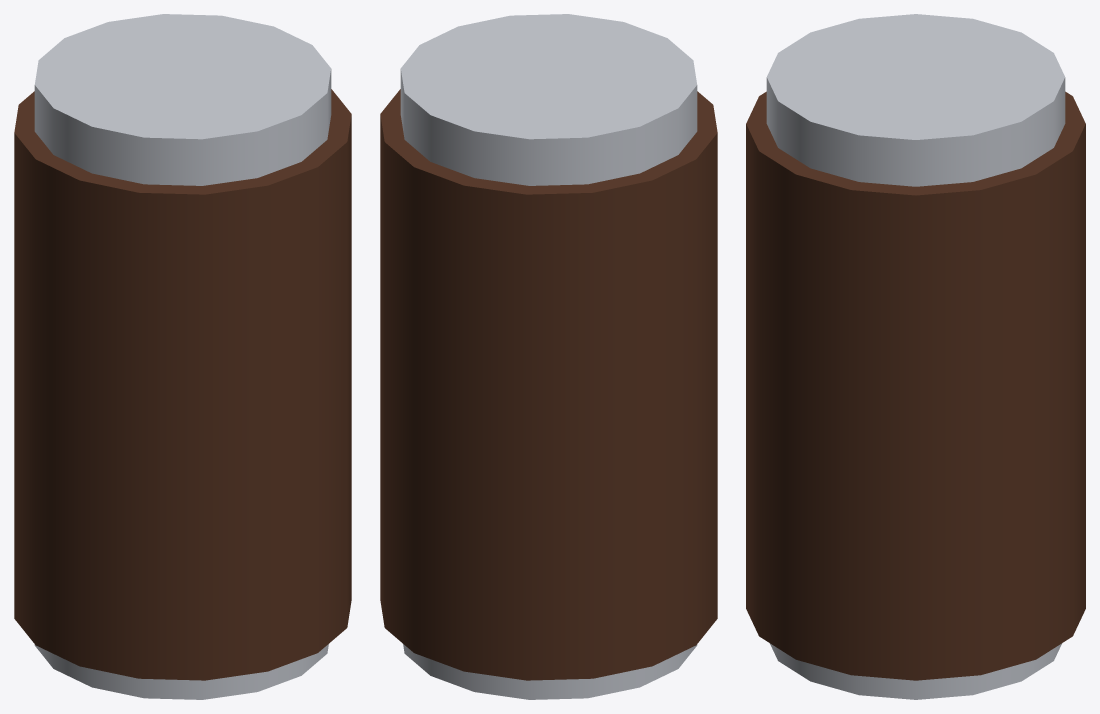
The model's file is goods_can__can_01.glb.
3 views of the same model, side by side, from view 1: azimuth 30°, elevation 25°; view 2: azimuth 150°, elevation 25°; view 3: azimuth 270°, elevation 25° (orthographic).
Visible parts, largest first — view 1: can_01; view 2: can_01; view 3: can_01.
Boxes of the visible parts, x1,y1,x2,y2 form: can_01: [14, 14, 351, 699]; can_01: [380, 14, 717, 699]; can_01: [746, 14, 1085, 699].
Bounding box in the file's own units: 0.066 × 0.12 × 0.066.
